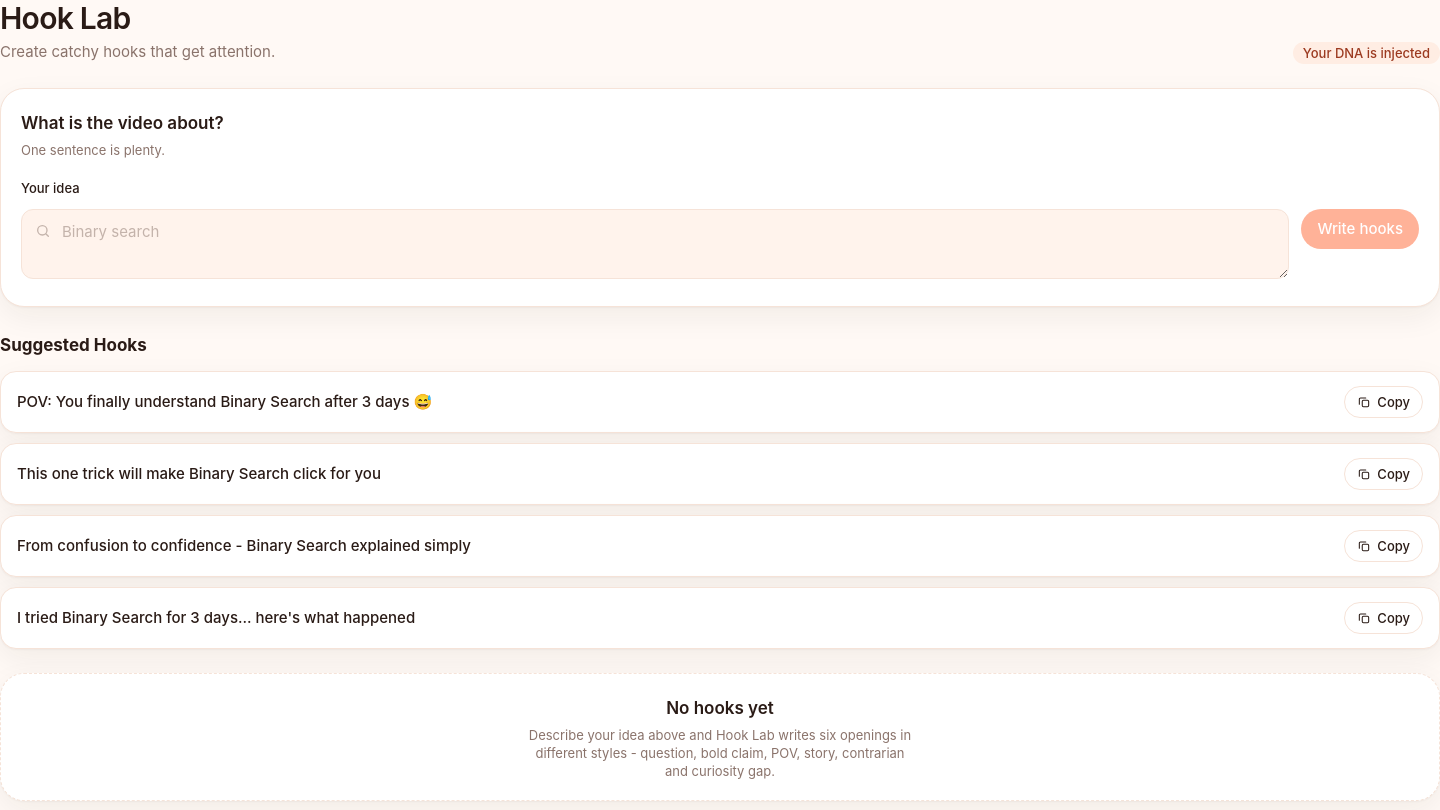
Test: HookLabPage › writes six hooks in distinct styles
In the text box labelled "Your idea": (655, 244) [21,209,1289,279], type "Explain binary search"
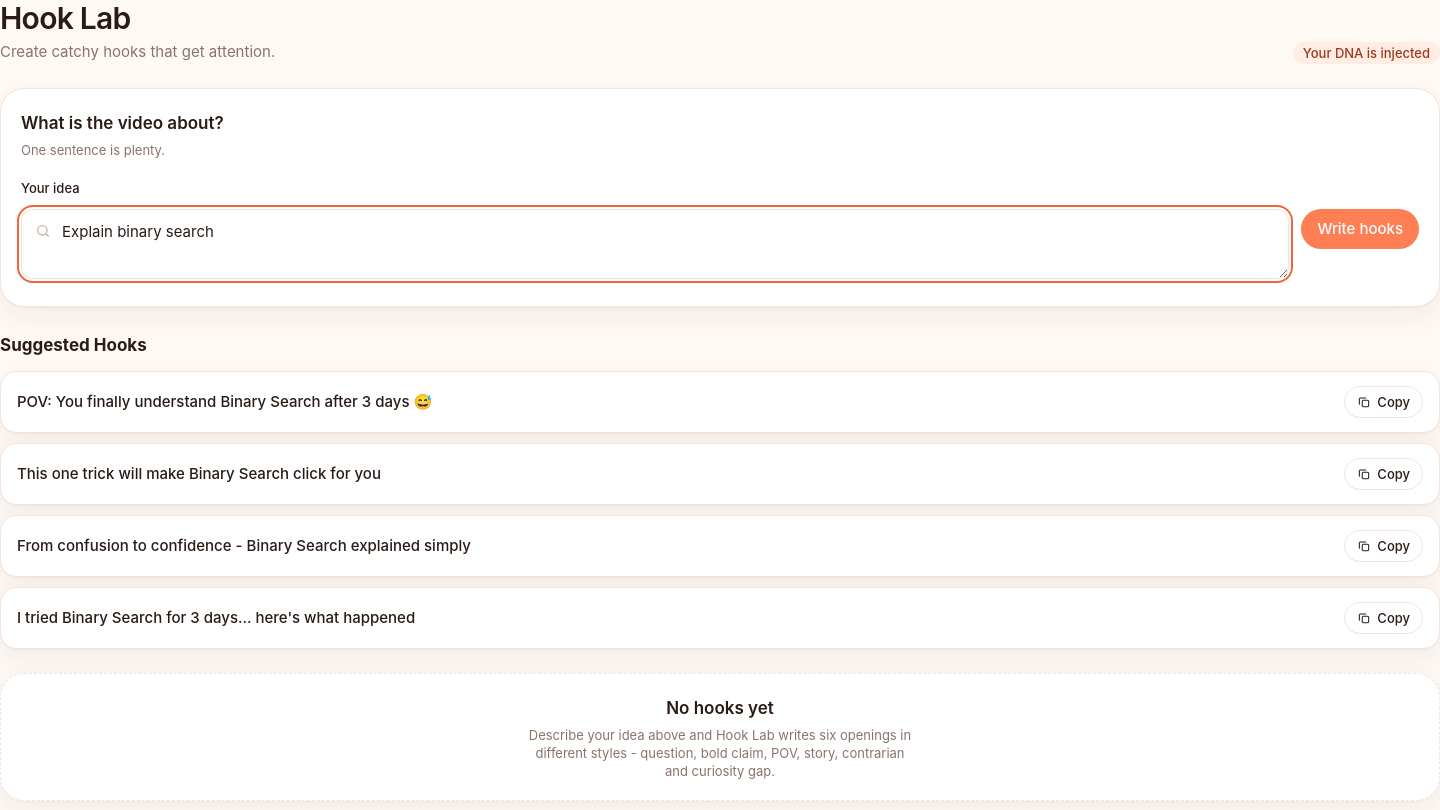
Click the button "Write hooks": (1360, 229) [1301,209,1419,249]
(page scrolled)
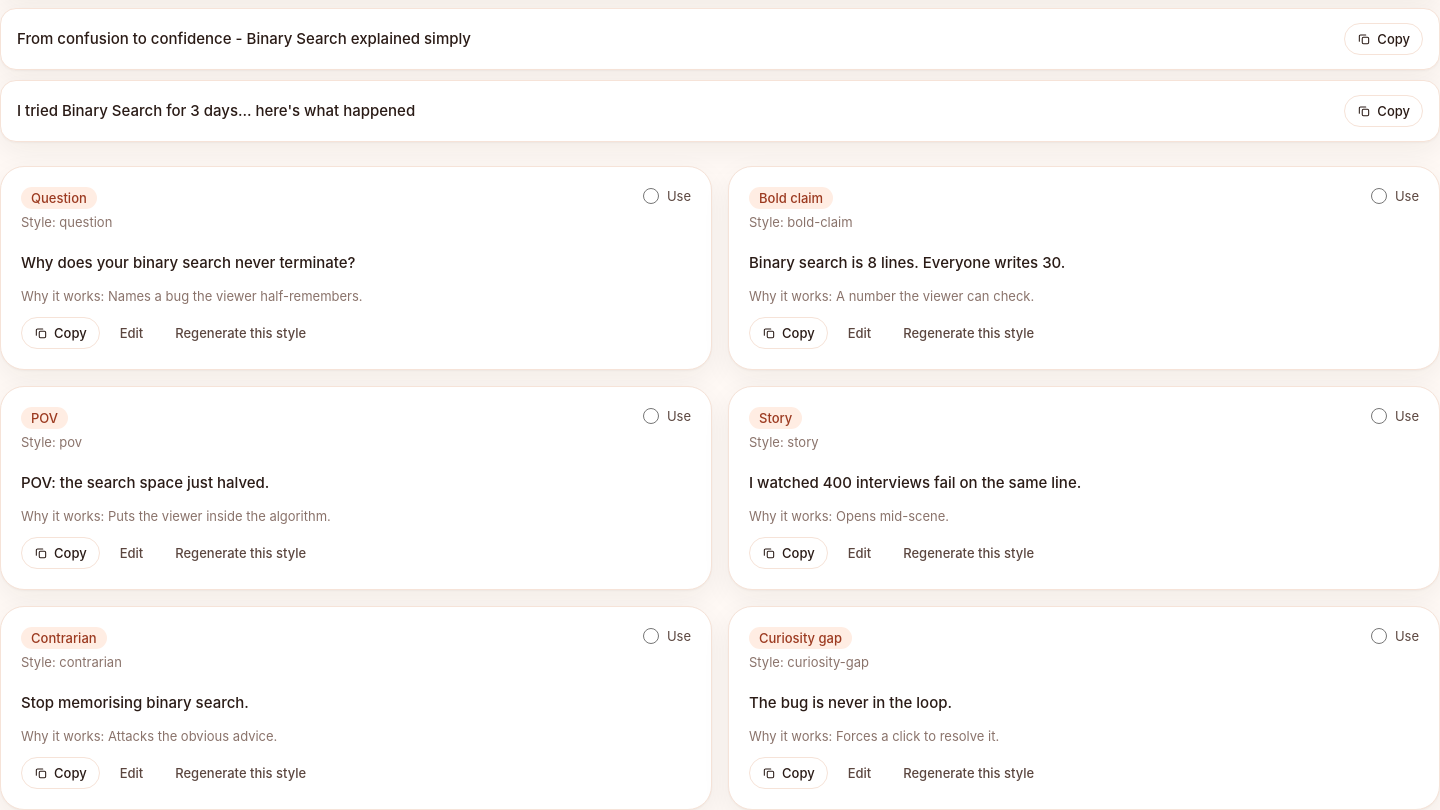
Expected: the number of list items is 6, [0,166,712,370]; [728,166,1439,370]; [0,386,712,590]; [728,386,1439,590]; [0,606,712,809]; [728,606,1439,809]
Expected: the text "Question" is shown, [21,186,97,208]
Expected: the text "POV" is shown, [21,406,68,428]
